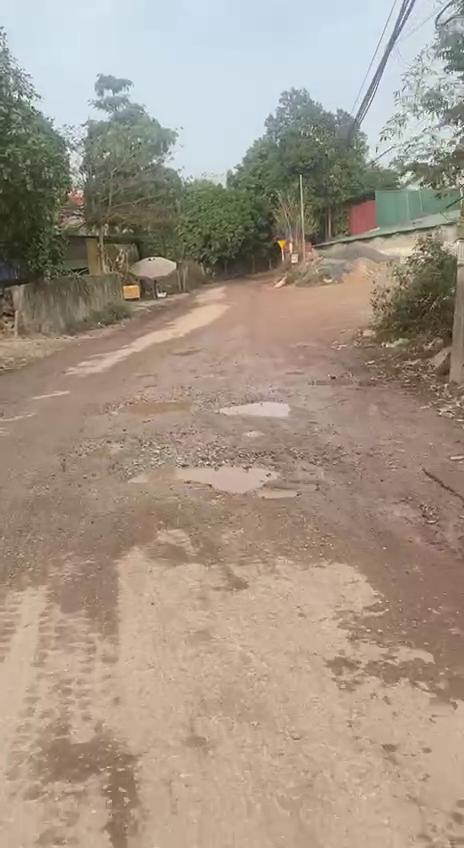pothole: (133, 444, 333, 505), (110, 388, 206, 424), (59, 436, 137, 479), (212, 395, 300, 424)
